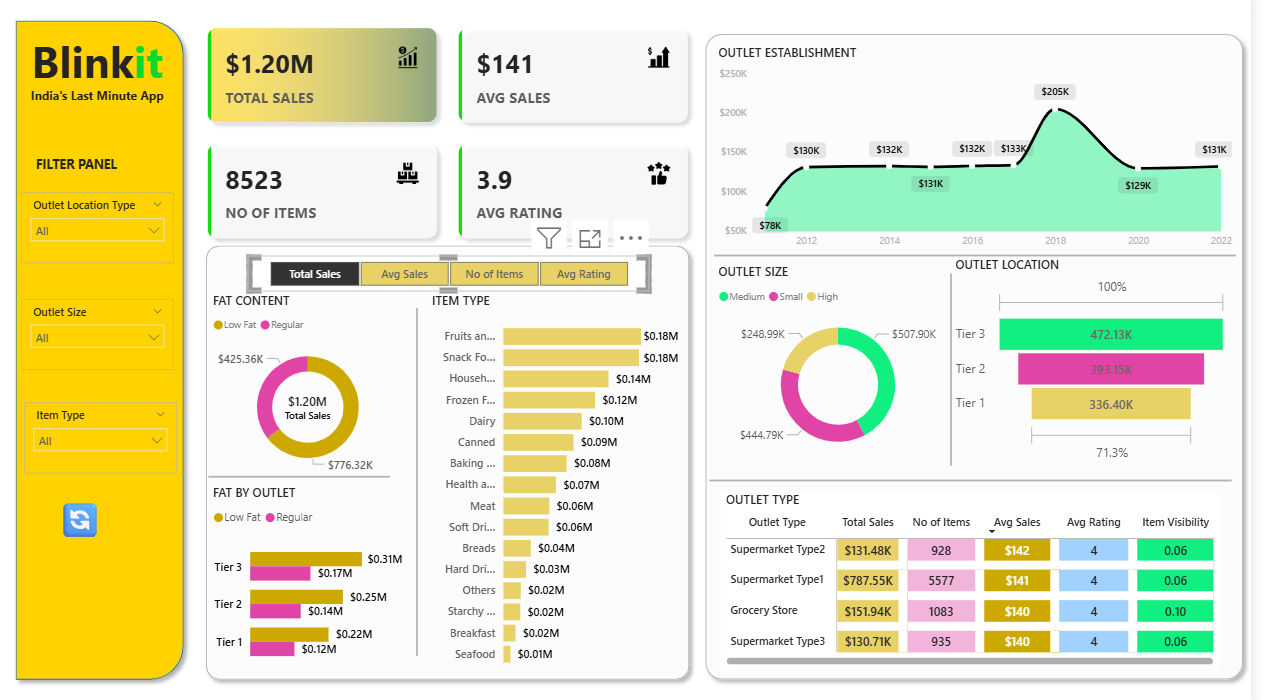

The dashboard page shown, as its layout file describes it:
{"tool":"powerbi","page":{"name":"Page 1","canvas":[1400,800],"ordinal":0},"visuals":[{"type":"shape","box":[18.6,24.8,204.6,750.3],"z":0},{"type":"textbox","box":[33.1,39.3,169.5,80.6],"z":1000},{"type":"textbox","box":[33.1,101.3,169.5,33.1],"z":2000},{"type":"cardVisual","fields":{"Data":["BlinkIT Grocery Data.Total Sales","BlinkIT Grocery Data.Avg Sales","BlinkIT Grocery Data.No of Items","BlinkIT Grocery Data.Avg Rating"]},"box":[223.6,24.8,569.7,270],"z":3000},{"type":"shape","box":[230.2,274.9,554.8,500.2],"z":4000},{"type":"donutChart","title":"FAT CONTENT","fields":{"Y":["BlinkIT Grocery Data.Total Sales"],"Category":["BlinkIT Grocery Data.Item Fat Content"]},"box":[241.7,335,220,211.7],"z":5000},{"type":"slicer","fields":{"Values":["Metrics.Metrics"]},"box":[285,295,446.7,40],"z":6000},{"type":"cardVisual","fields":{"Data":["BlinkIT Grocery Data.Total Sales"]},"box":[306.7,430,90,56.7],"z":6001},{"type":"clusteredBarChart","title":"FAT BY OUTLET","fields":{"Y":["BlinkIT Grocery Data.Total Sales"],"Category":["BlinkIT Grocery Data.Outlet Location Type"],"Series":["BlinkIT Grocery Data.Item Fat Content"]},"box":[241.7,548.3,220,215],"z":6002},{"type":"shape","box":[241.7,525,201.7,31.7],"z":6003},{"type":"shape","box":[461.7,353.3,23.3,386.7],"z":6004},{"type":"barChart","title":"ITEM TYPE","fields":{"Category":["BlinkIT Grocery Data.Item Type"],"Y":["BlinkIT Grocery Data.Total Sales"]},"box":[485,335,283.3,426.7],"z":6005},{"type":"shape","box":[785,40,615,735],"z":6006},{"type":"lineChart","title":"OUTLET ESTABLISHMENT","fields":{"Y":["BlinkIT Grocery Data.Total Sales"],"Category":["BlinkIT Grocery Data.Outlet Establishment Year"]},"box":[803.3,60,580,235],"z":6007},{"type":"shape","box":[803.3,275,580,40],"z":6008},{"type":"donutChart","title":"OUTLET SIZE","fields":{"Category":["BlinkIT Grocery Data.Outlet Size"],"Y":["BlinkIT Grocery Data.Total Sales"]},"box":[803.3,303.3,275,225],"z":6009},{"type":"funnel","title":"OUTLET LOCATION","fields":{"Y":["Sum(BlinkIT Grocery Data.Sales)"],"Category":["BlinkIT Grocery Data.Outlet Location Type"]},"box":[1066.7,295,311.7,233.3],"z":6010},{"type":"shape","box":[1055,315,23.3,213.3],"z":6011},{"type":"shape","box":[798.3,525,580,40],"z":6012},{"type":"pivotTable","title":"OUTLET TYPE","fields":{"Rows":["BlinkIT Grocery Data.Outlet Type"],"Values":["BlinkIT Grocery Data.Total Sales","BlinkIT Grocery Data.No of Items","BlinkIT Grocery Data.Avg Sales","BlinkIT Grocery Data.Avg Rating","Avg(BlinkIT Grocery Data.Item Visibility)"]},"box":[811.7,556.7,551.7,198.3],"z":6013},{"type":"slicer","fields":{"Values":["BlinkIT Grocery Data.Outlet Location Type"]},"box":[33.3,225,170,78.3],"z":6014},{"type":"slicer","fields":{"Values":["BlinkIT Grocery Data.Outlet Size"]},"box":[33.3,343.3,170,78.3],"z":6015},{"type":"slicer","fields":{"Values":["BlinkIT Grocery Data.Item Type"]},"box":[36.7,458.3,170,78.3],"z":6016},{"type":"textbox","box":[36.7,178.3,116.7,33.3],"z":6017},{"type":"textbox","box":[68.3,556.7,70,65],"z":6018},{"type":"actionButton","box":[60,565,78.3,56.7],"z":6019}]}

Visuals, with their boxes on the page's 1400x800 design canvas (x1, y1, x2, y2). These are canvas units, not pixel positions in the 1264x700 screenshot, which may show the page scaled, cropped or inside an application window:
shape: bbox=(19, 25, 223, 775)
textbox: bbox=(33, 39, 203, 120)
textbox: bbox=(33, 101, 203, 134)
cardVisual - BlinkIT Grocery Data.Total Sales x BlinkIT Grocery Data.Avg Sales: bbox=(224, 25, 793, 295)
shape: bbox=(230, 275, 785, 775)
"FAT CONTENT" donutChart: bbox=(242, 335, 462, 547)
slicer - Metrics.Metrics: bbox=(285, 295, 732, 335)
cardVisual - BlinkIT Grocery Data.Total Sales: bbox=(307, 430, 397, 487)
"FAT BY OUTLET" clusteredBarChart: bbox=(242, 548, 462, 763)
shape: bbox=(242, 525, 443, 557)
shape: bbox=(462, 353, 485, 740)
"ITEM TYPE" barChart: bbox=(485, 335, 768, 762)
shape: bbox=(785, 40, 1400, 775)
"OUTLET ESTABLISHMENT" lineChart: bbox=(803, 60, 1383, 295)
shape: bbox=(803, 275, 1383, 315)
"OUTLET SIZE" donutChart: bbox=(803, 303, 1078, 528)
"OUTLET LOCATION" funnel: bbox=(1067, 295, 1378, 528)
shape: bbox=(1055, 315, 1078, 528)
shape: bbox=(798, 525, 1378, 565)
"OUTLET TYPE" pivotTable: bbox=(812, 557, 1363, 755)
slicer - BlinkIT Grocery Data.Outlet Location Type: bbox=(33, 225, 203, 303)
slicer - BlinkIT Grocery Data.Outlet Size: bbox=(33, 343, 203, 422)
slicer - BlinkIT Grocery Data.Item Type: bbox=(37, 458, 207, 537)
textbox: bbox=(37, 178, 153, 212)
textbox: bbox=(68, 557, 138, 622)
actionButton: bbox=(60, 565, 138, 622)
